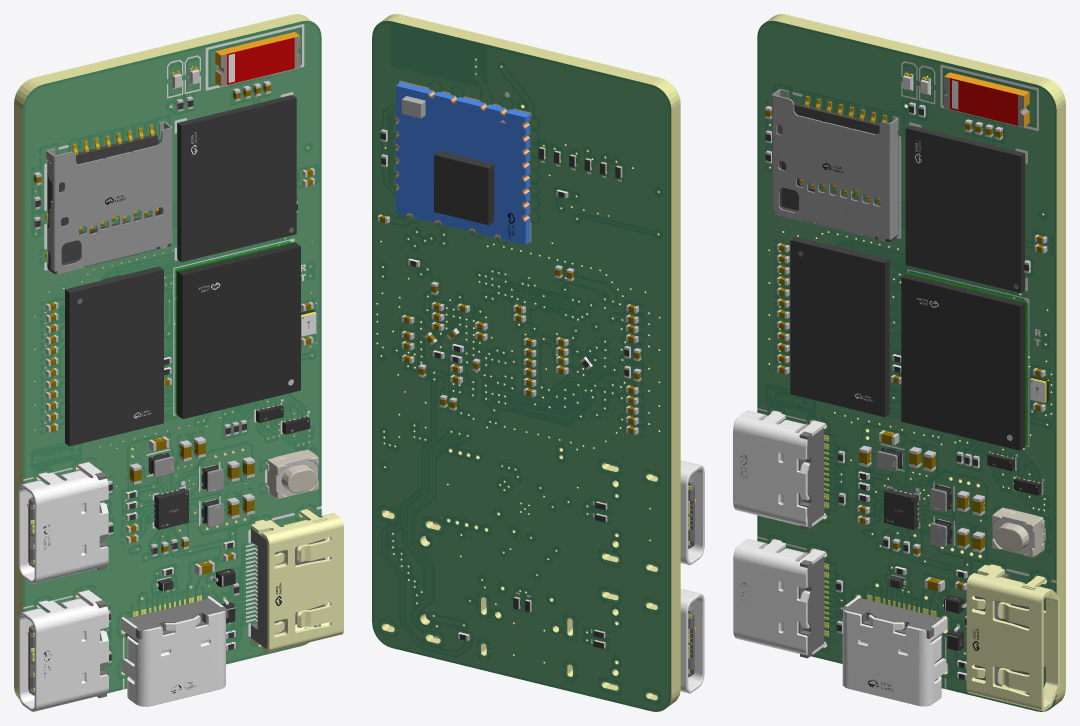
Rendered from auracore.glb.
3 renders of one model, left to right at view 1: azimuth 30°, elevation 25°; view 2: azimuth 150°, elevation 25°; view 3: azimuth 330°, elevation 25°, orthographic.
Parts seen in each view (by area): view 1: =>[0:1:1:2]; view 2: =>[0:1:1:2]; view 3: =>[0:1:1:2].
Boxes of the visible parts, x1=… form: =>[0:1:1:2]: x1=14, y1=14, x2=343, y2=711; =>[0:1:1:2]: x1=372, y1=14, x2=704, y2=711; =>[0:1:1:2]: x1=733, y1=14, x2=1065, y2=711.
Bounding box in the file's own units: 0.0309 × 0.0605 × 0.00667.
1 material, 1 textured.
